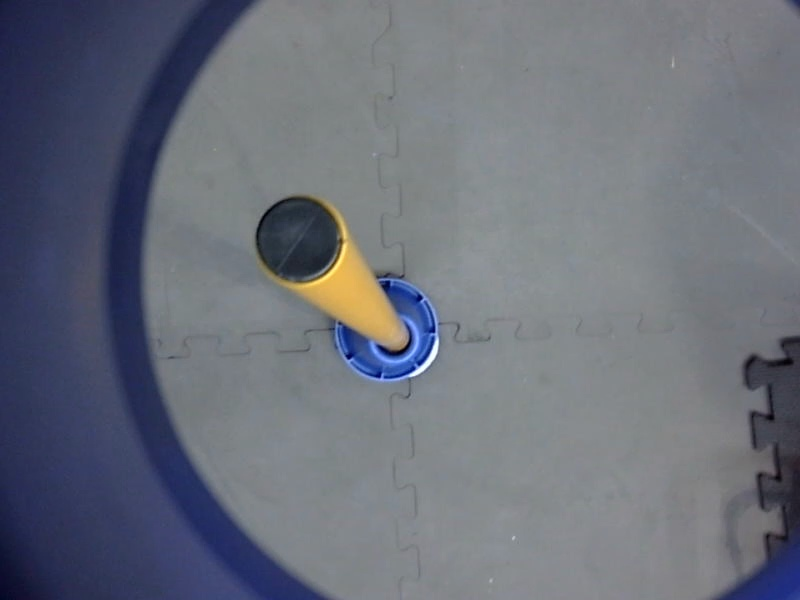tip: (247, 189, 352, 296)
